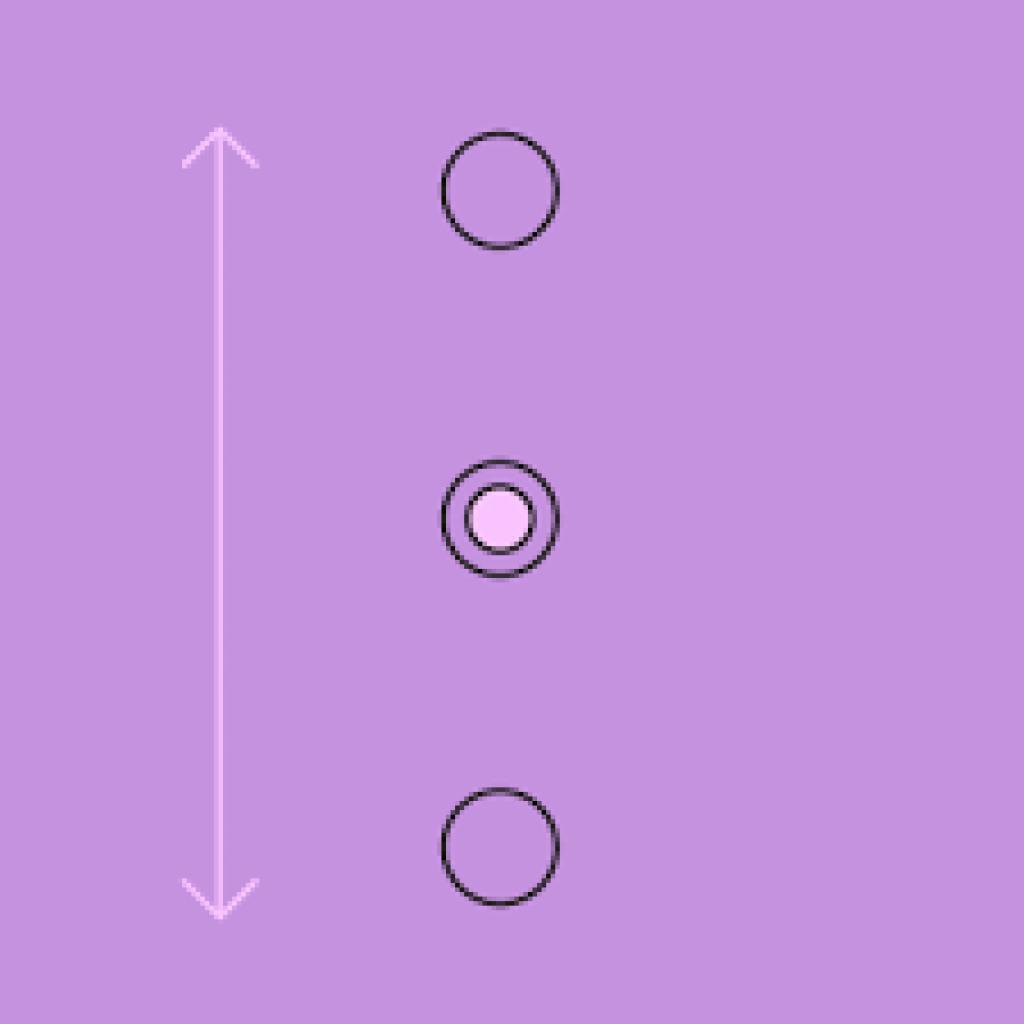radio: (428, 771, 572, 919), (434, 452, 568, 590), (438, 128, 565, 259)
